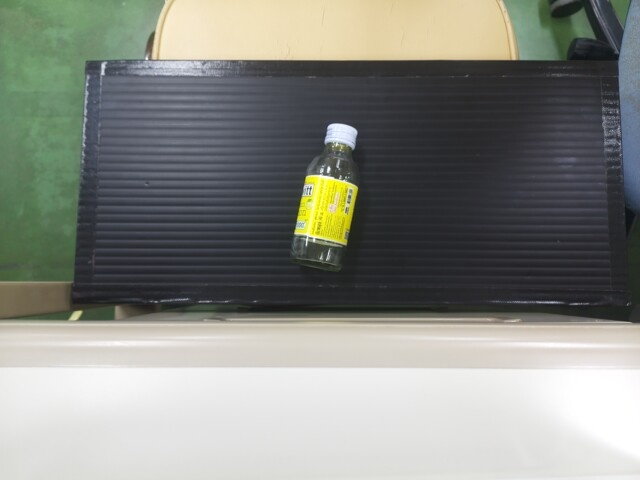glass_bottle: (294, 117, 360, 273)
